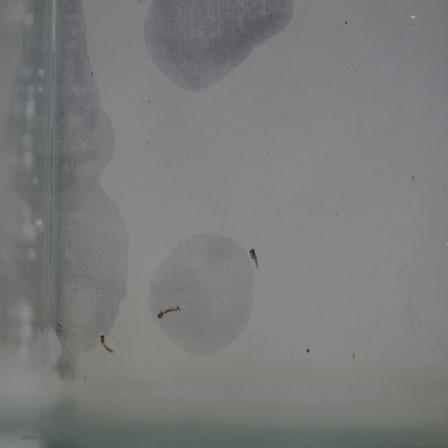Jentik-Nyamuk: (96, 327, 121, 357), (156, 302, 187, 325), (247, 243, 265, 272)
